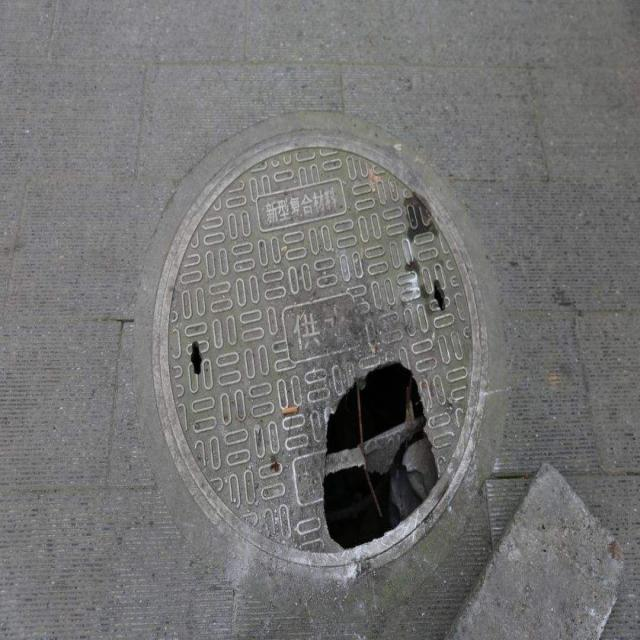Broken: (151, 125, 488, 568)
